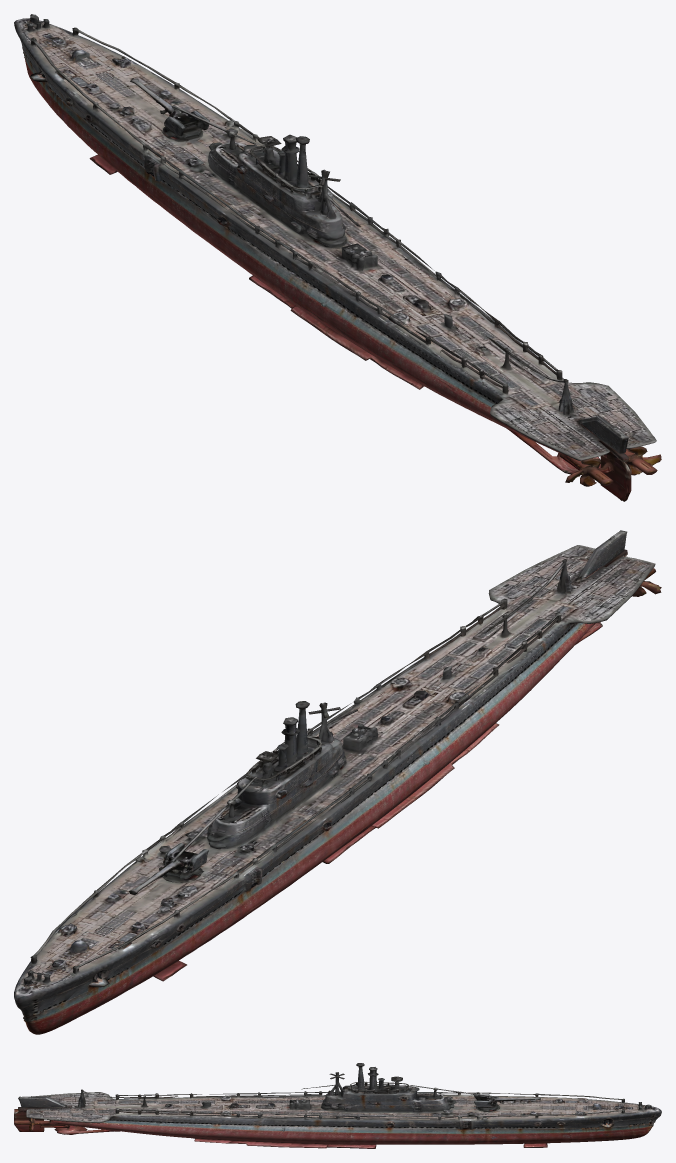
The model's file is submarine.nautilus.glb.
The picture shows the model from 3 angles, top to bottom: view 1: azimuth 30°, elevation 25°; view 2: azimuth 150°, elevation 25°; view 3: azimuth 270°, elevation 25°; orthographic projection. The views are drawn at different scales.
Parts seen in each view (by area): view 1: tripo_node_27821f90-1f08-4dbe-ba00-4187b6010c71; view 2: tripo_node_27821f90-1f08-4dbe-ba00-4187b6010c71; view 3: tripo_node_27821f90-1f08-4dbe-ba00-4187b6010c71.
Boxes of the visible parts, box(x1,y1,x2,y2) form: tripo_node_27821f90-1f08-4dbe-ba00-4187b6010c71: box(14, 14, 661, 501); tripo_node_27821f90-1f08-4dbe-ba00-4187b6010c71: box(14, 530, 661, 1034); tripo_node_27821f90-1f08-4dbe-ba00-4187b6010c71: box(14, 1063, 661, 1148).
Size of the model in its own units: 12.61 by 15 by 113.
1 material, 1 textured.
